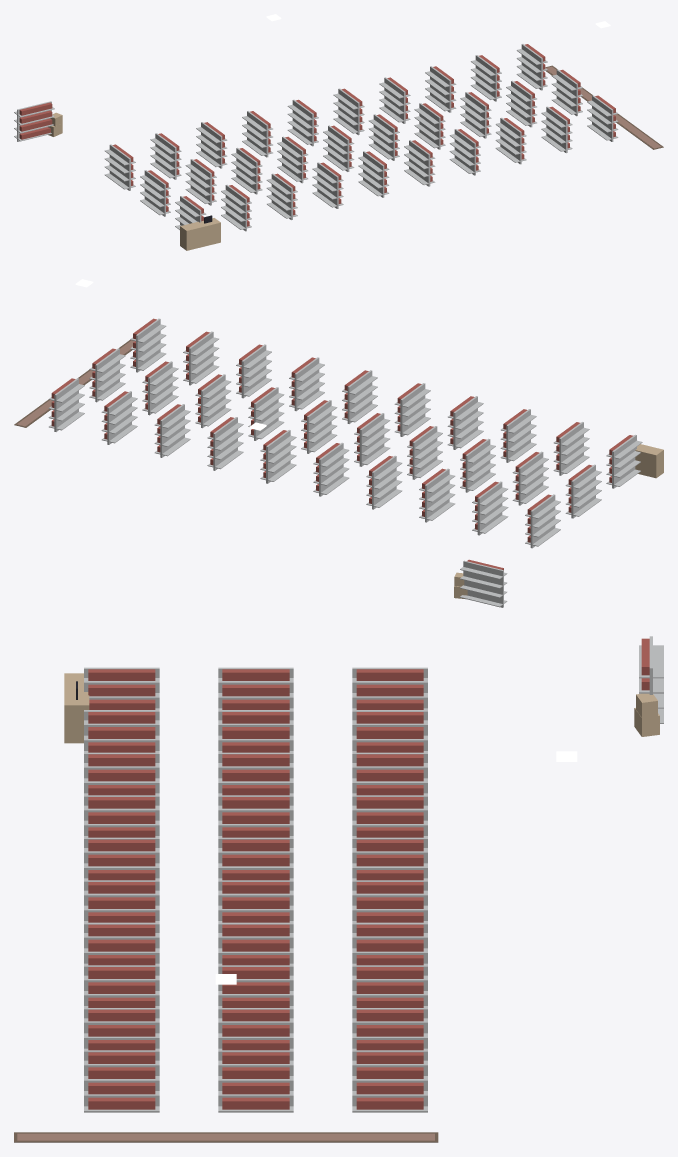
Rendered from fine-s0.glb.
3 renders of one model, top to bottom at view 1: azimuth 30°, elevation 25°; view 2: azimuth 150°, elevation 25°; view 3: azimuth 270°, elevation 25°, orthographic. The views are drawn at different scales.
Visible parts, largest first — view 1: shelving.000, shop-counter.000, shelf.011, shelf.015, shelf.012, shelf.008, shelf.020, shelf.000, shelf.027, shelf.003, shelf.019, shelf.024 (+21 smaller); view 2: shelving.000, shelf.014, shelf.004, shelf.007, shelf.000, shelf.020, shelf.017, shelf.010, shelf.028, shelf.027, shelf.029, shelf.003 (+21 smaller); view 3: shelf.027, shelf.028, shelf.029, soft-s0, shelf.006, shelf.007, shelf.008, shelf.012, shelf.013, shelf.014, shelf.018, shelf.019 (+22 smaller).
Part boxes in pixels (box(x1,y1,x2,y2)): shelving.000: box(14, 101, 54, 141); shop-counter.000: box(180, 215, 220, 250); shelf.011: box(312, 162, 343, 208); shelf.015: box(333, 88, 364, 135); shelf.012: box(287, 99, 318, 146); shelf.008: box(266, 173, 297, 220); shelf.020: box(449, 129, 480, 175); shelf.000: box(104, 144, 135, 190); shelf.027: box(516, 44, 547, 90); shelf.003: box(150, 133, 181, 179); shelf.019: box(414, 103, 445, 149); shelf.024: box(470, 55, 501, 101); shelving.000: box(460, 559, 507, 607); shelf.014: box(394, 383, 430, 436); shelf.004: box(512, 451, 548, 505); shelf.007: box(460, 438, 495, 492); shelf.000: box(525, 494, 560, 548); shelf.020: box(289, 357, 324, 411); shelf.017: box(342, 370, 377, 423); shelf.010: box(407, 426, 442, 479); shelf.028: box(89, 348, 125, 402); shelf.027: box(48, 378, 84, 431); shelf.029: box(130, 318, 166, 372); shelf.003: box(472, 481, 508, 535); shelf.027: box(352, 1050, 427, 1112); shelf.028: box(218, 1050, 293, 1112); shelf.029: box(84, 1050, 159, 1112); soft-s0: box(14, 1132, 438, 1142); shelf.006: box(352, 752, 427, 795); shelf.007: box(218, 752, 293, 795); shelf.008: box(84, 752, 159, 795); shelf.012: box(352, 837, 427, 880); shelf.013: box(218, 837, 293, 880); shelf.014: box(84, 837, 159, 880); shelf.018: box(352, 922, 427, 965); shelf.019: box(218, 922, 293, 965).
Size of the model in its own units: 25.13 by 4.19 by 15.5.
